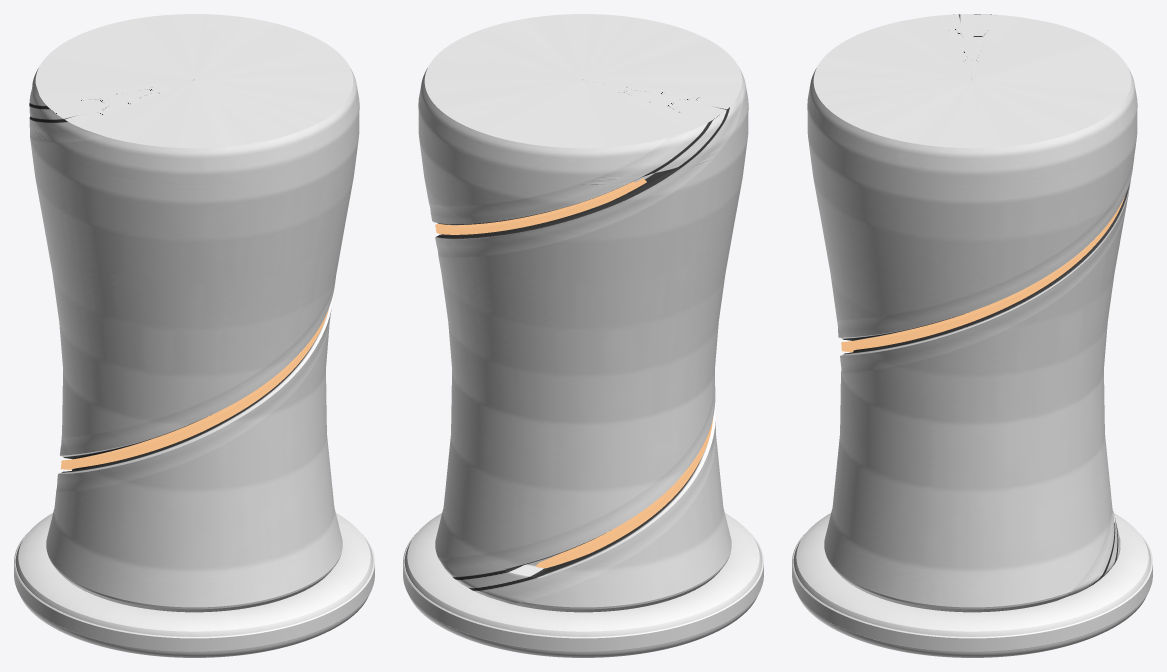
Rendered from vesper-01.glb.
3 renders of one model, left to right at view 1: azimuth 30°, elevation 25°; view 2: azimuth 150°, elevation 25°; view 3: azimuth 270°, elevation 25°, orthographic.
Parts seen in each view (by area): view 1: Shell, Plinth, Dial, LightPipe; view 2: Shell, Plinth, Dial, LightPipe; view 3: Shell, Plinth, Dial, LightPipe.
Part boxes in pixels (bbox=[...]): Shell: bbox=[29, 14, 359, 612]; Plinth: bbox=[15, 513, 373, 657]; Dial: bbox=[14, 533, 374, 651]; LightPipe: bbox=[60, 308, 328, 470]; Shell: bbox=[418, 14, 748, 612]; Plinth: bbox=[404, 513, 762, 657]; Dial: bbox=[403, 533, 763, 651]; LightPipe: bbox=[435, 178, 712, 568]; Shell: bbox=[807, 14, 1137, 612]; Plinth: bbox=[793, 513, 1151, 657]; Dial: bbox=[792, 533, 1152, 651]; LightPipe: bbox=[841, 195, 1125, 352].
Size of the model in its own units: 0.1972 by 0.3049 by 0.1972.
Materials: 2 (1 with a texture image).
